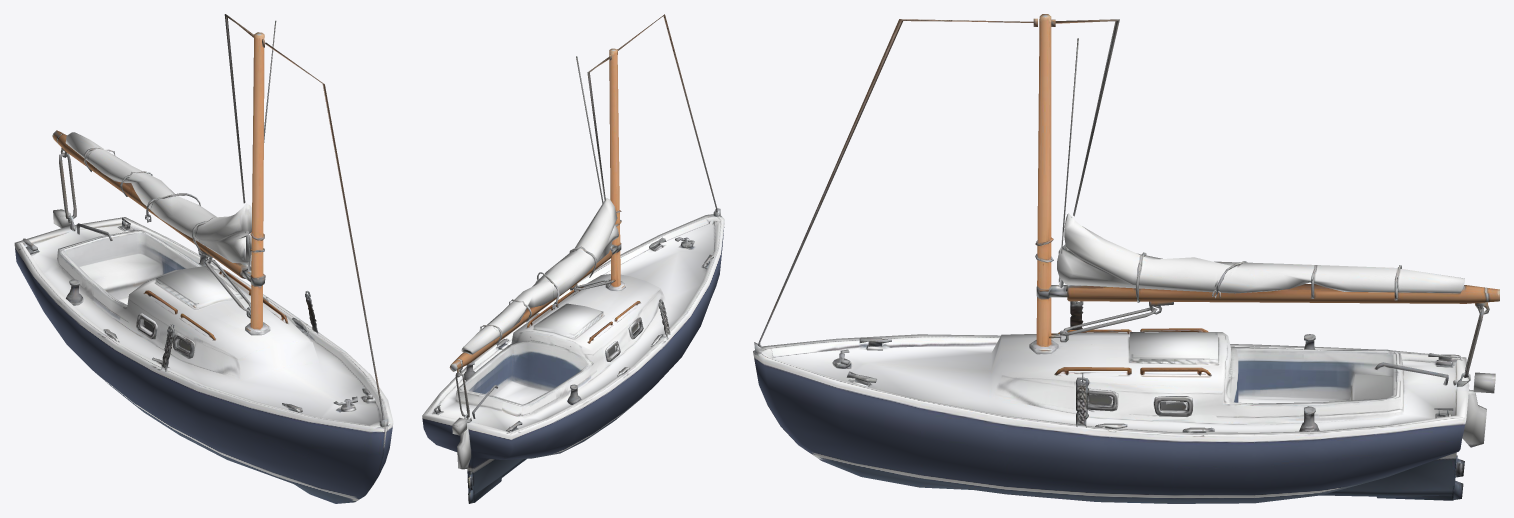
Rendered from original_glb.glb.
The picture shows the model from 3 angles, left to right: view 1: azimuth 30°, elevation 25°; view 2: azimuth 150°, elevation 25°; view 3: azimuth 270°, elevation 25°; orthographic projection. The views are drawn at different scales.
Visible parts, largest first — view 1: Sailboat; view 2: Sailboat; view 3: Sailboat.
Boxes of the visible parts, x1,y1,x2,y2 form: Sailboat: [14, 14, 393, 503]; Sailboat: [422, 14, 724, 503]; Sailboat: [753, 14, 1499, 503].
Bounding box in the file's own units: 0.291 × 0.7168 × 0.998.
Materials: 1 (1 with a texture image).
